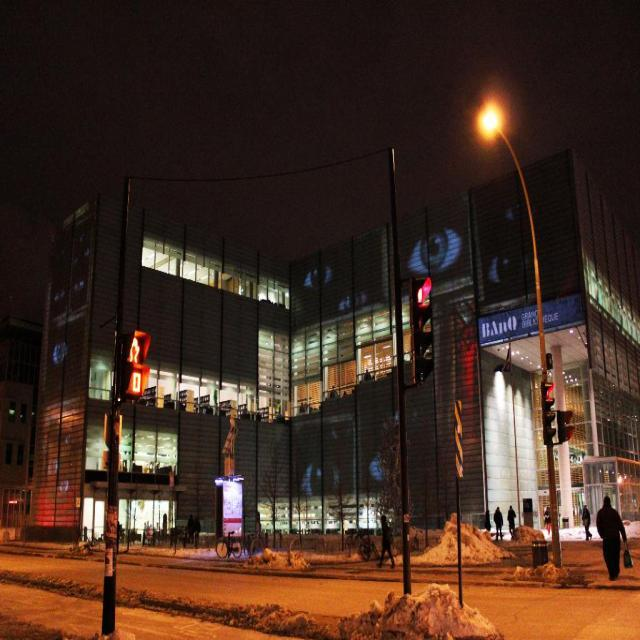off traffic light: (559, 410, 574, 444)
traffic light: (410, 276, 435, 389), (120, 333, 150, 402), (541, 378, 557, 447)
